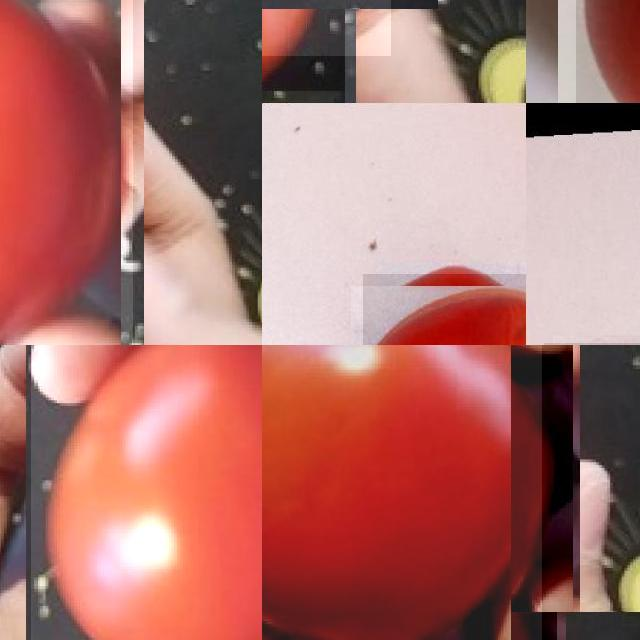Fresh Tomato: (262, 345, 542, 640), (31, 345, 262, 640), (0, 0, 132, 345)
Rotten Tomato: (362, 273, 526, 345)
